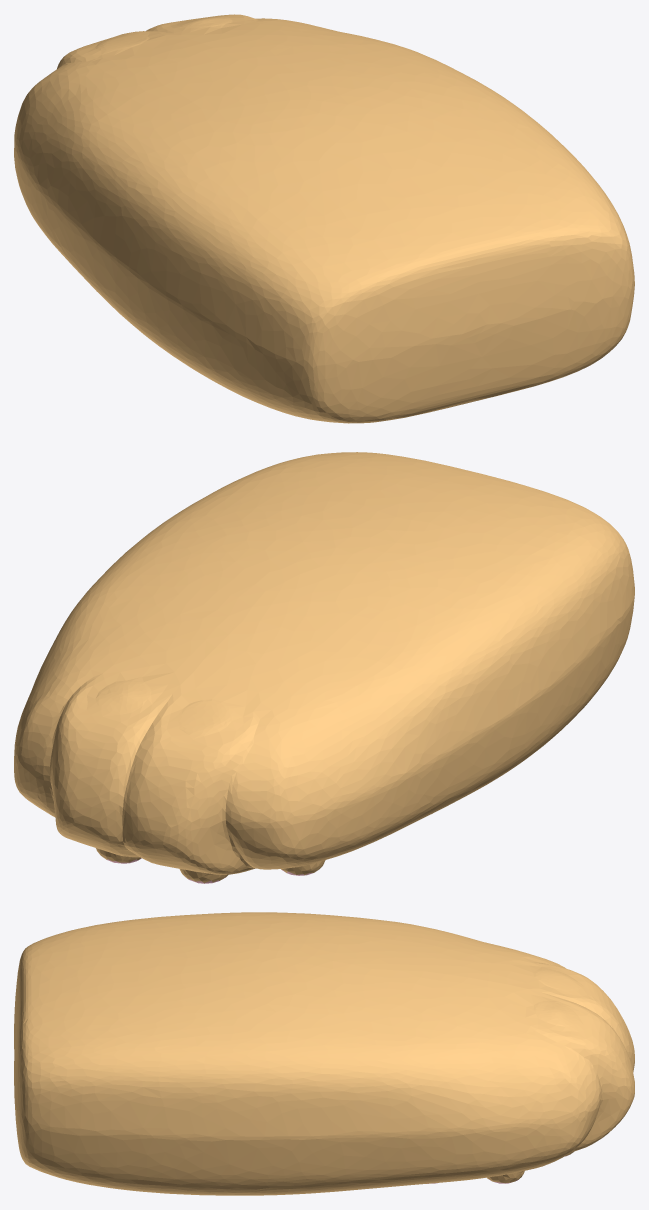
The model's file is pata_o_0.glb.
3 views of the same model, one above another, from view 1: azimuth 30°, elevation 25°; view 2: azimuth 150°, elevation 25°; view 3: azimuth 270°, elevation 25° (orthographic). The views are drawn at different scales.
Bounding box in the file's own units: 0.0965 × 0.0497 × 0.15.
